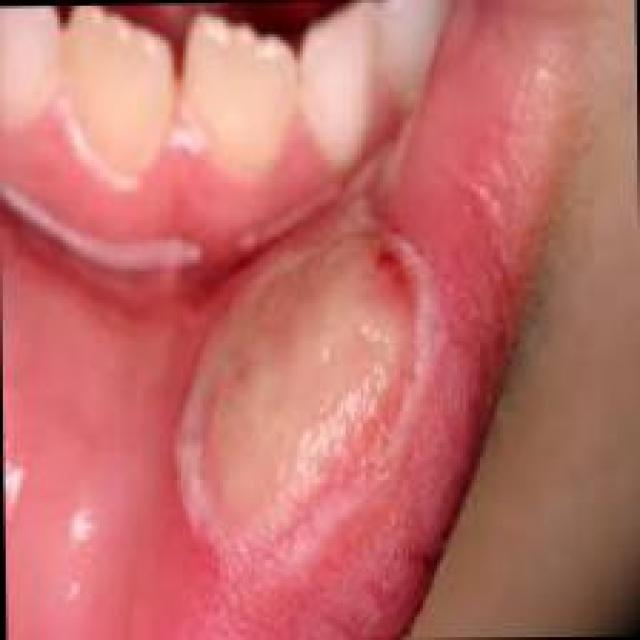processing_area: (2, 6, 548, 637)
ulcer-detection: (140, 190, 462, 596)
